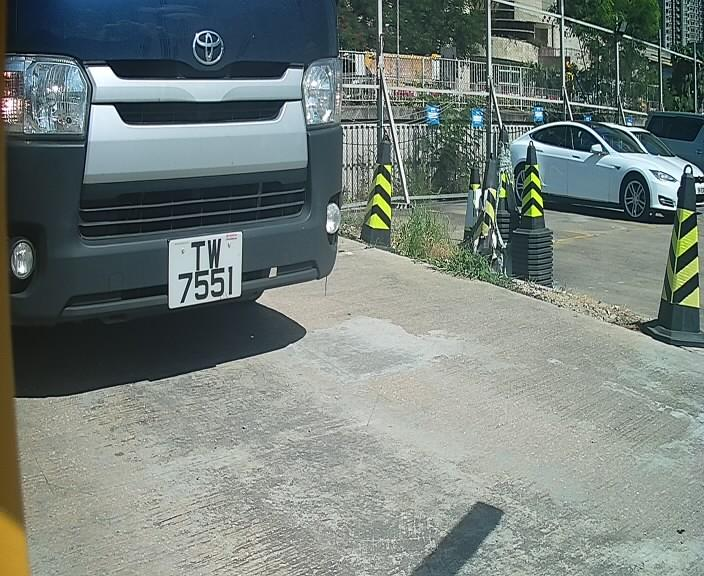License Plate: (164, 235, 252, 309)
